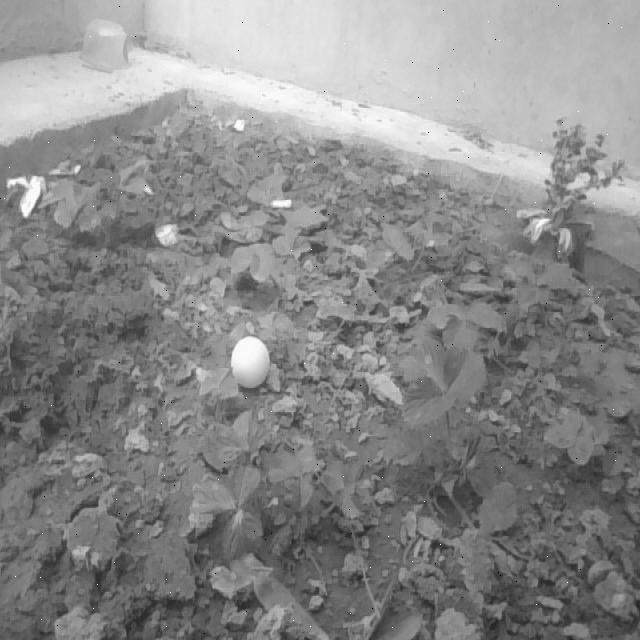ping-pong-ball: (232, 340, 270, 389)
